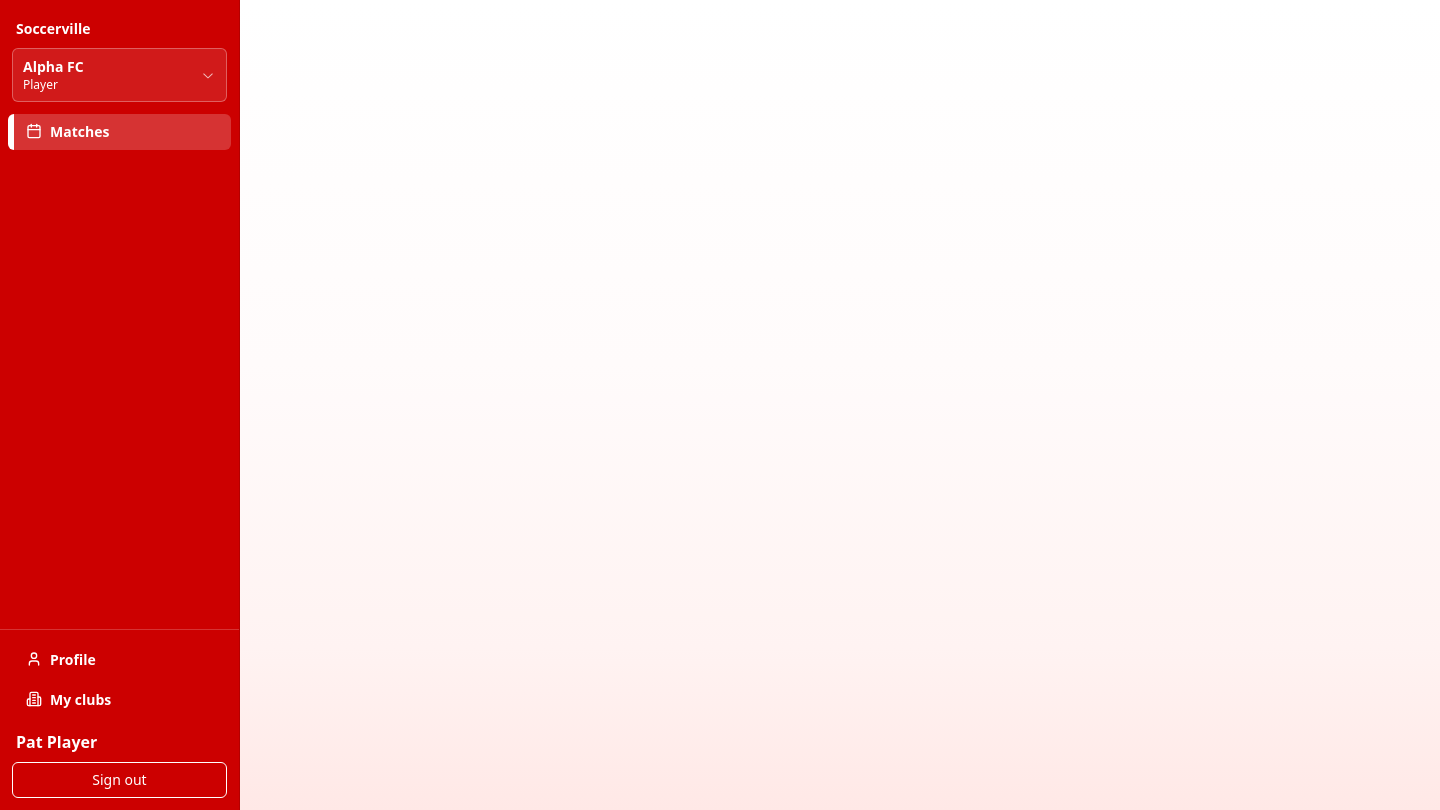
Test: AppShell › shows a user-facing error when club switch fails
What coordinates should you click on to do the following:
click the button with aria-label "Switch club"
I would click on:
 (120, 75)
Its box is [12, 48, 227, 102].
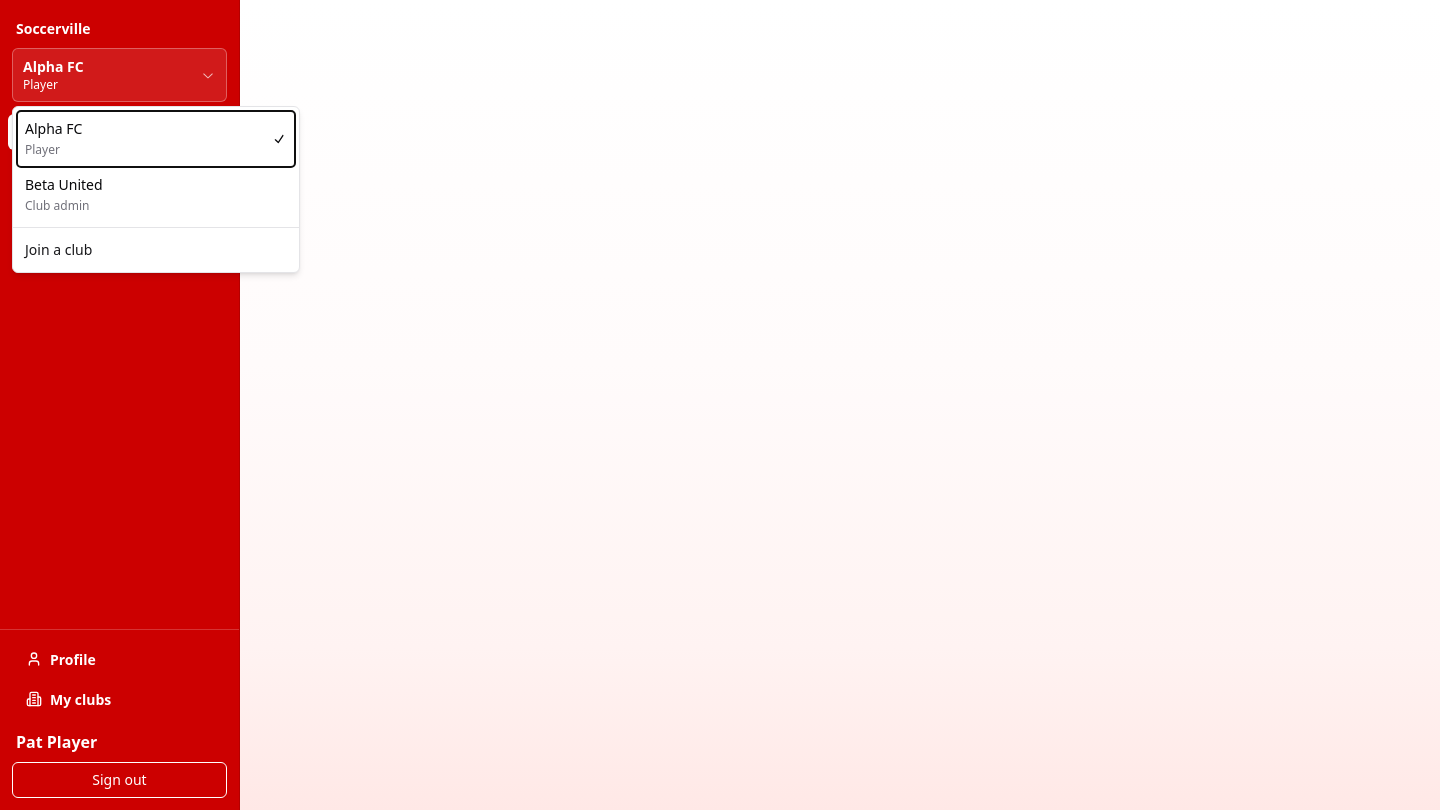
What coordinates should you click on to do the following:
click the button "Beta United Club admin"
I would click on:
 (64, 184)
Its box is [17, 167, 295, 223].
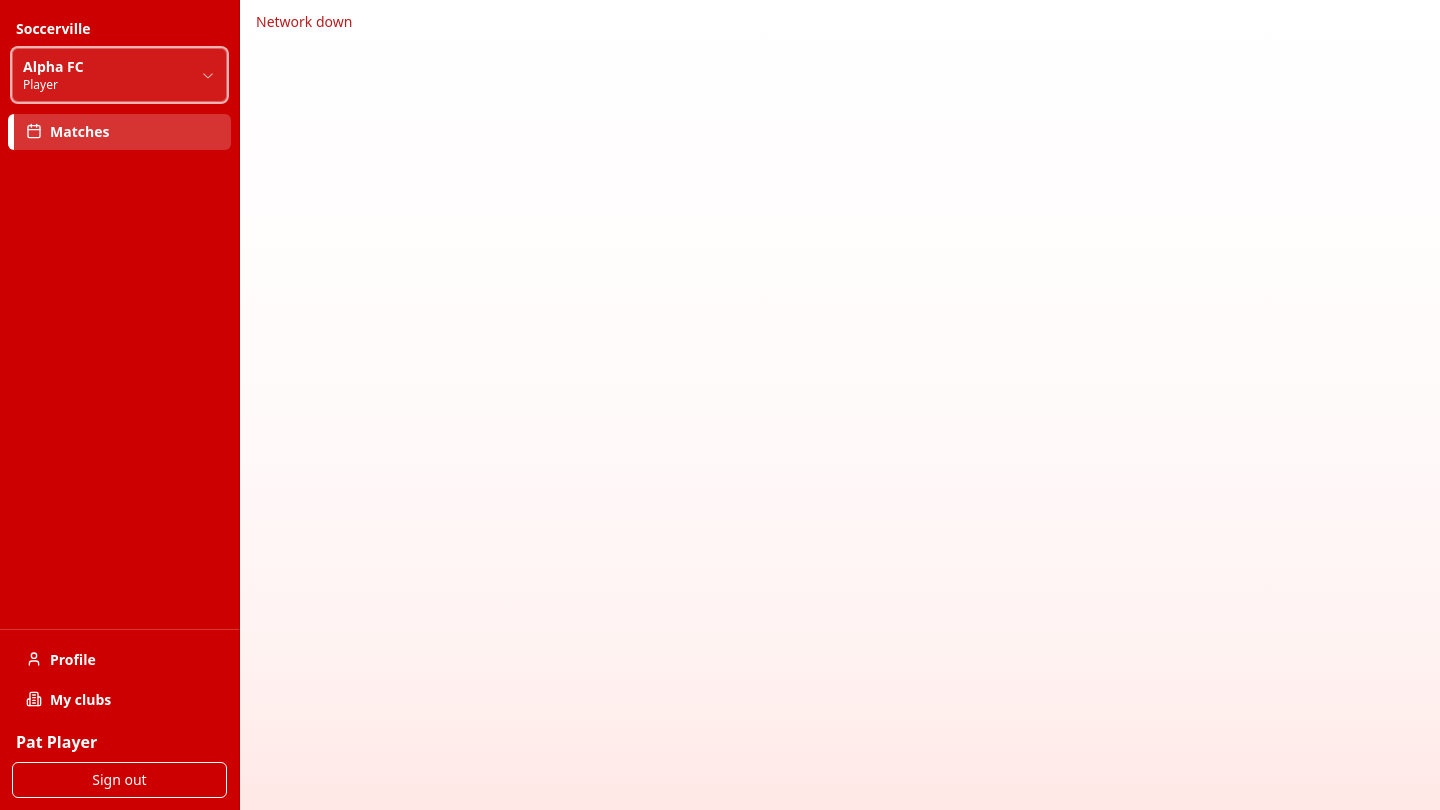
Expected: the message reads "Network down", [256, 12, 352, 31]
